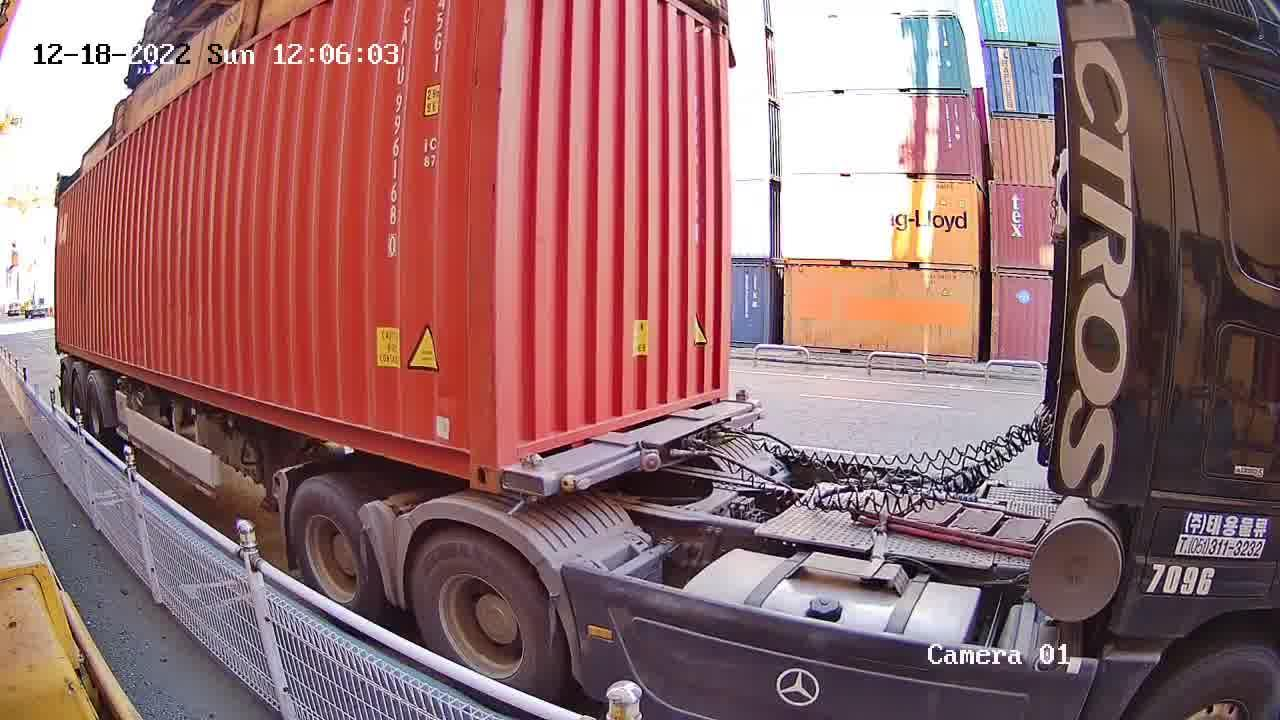Chassis: (504, 399, 763, 497)
Hole_R: (440, 408, 499, 490)
Tire: (410, 535, 548, 687), (291, 482, 382, 615)
